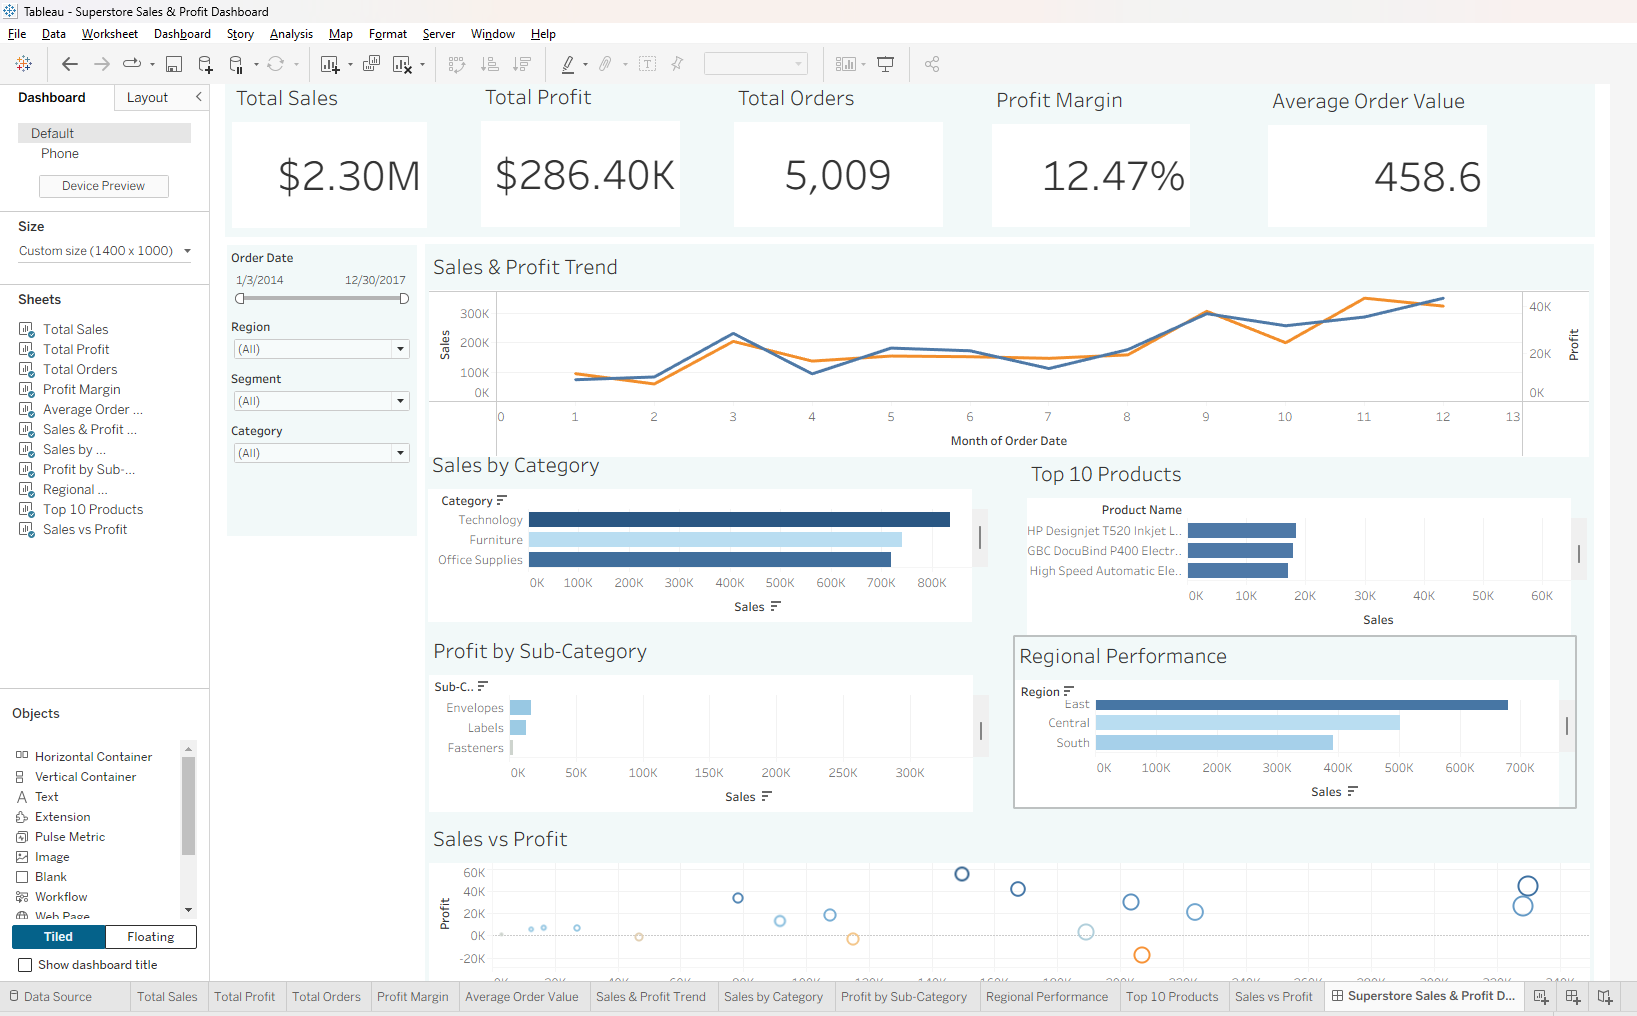

This screenshot's page, from the dashboard's own definition file:
{"tool":"tableau","page":{"name":"Superstore Sales & Profit Dashboard","canvas":[1400,1000],"ordinal":0},"visuals":[{"type":"text","box":[15.2,17.8,1369.7,32]},{"type":"worksheet","title":"Total Profit","mark":"Text","box":[271,44,249,151]},{"type":"worksheet","title":"Total Sales","mark":"Text","box":[22,45,244,149]},{"type":"worksheet","title":"Total Orders","mark":"Automatic","box":[524,45,243,154]},{"type":"worksheet","title":"Profit Margin","mark":"Automatic","box":[782,47,361,185]},{"type":"worksheet","title":"Average Order Value","mark":"Automatic","box":[1058,48,326,155]},{"type":"worksheet","title":"Sales & Profit Trend","mark":"Automatic","rows":["Sales","Profit"],"cols":["Order Date"],"box":[215,210,1169,217]},{"type":"filter","title":"Sales & Profit Trend","param":"[federated.1eerp9a0xwfibz15w8imu005t1my].[none:Order Date:qk]","box":[17,211,190,69]},{"type":"filter","title":"Sales & Profit Trend","param":"[federated.1eerp9a0xwfibz15w8imu005t1my].[none:Region:nk]","box":[17,280,190,52]},{"type":"filter","title":"Sales & Profit Trend","param":"[federated.1eerp9a0xwfibz15w8imu005t1my].[none:Segment:nk]","box":[17,332,190,52]},{"type":"filter","title":"Sales & Profit Trend","param":"[federated.1eerp9a0xwfibz15w8imu005t1my].[none:Category:nk]","box":[17,384,190,52]},{"type":"worksheet","title":"Sales by Category","mark":"Automatic","rows":["Category"],"cols":["Sales"],"box":[218,412,560,176]},{"type":"worksheet","title":"Top 10 Products","mark":"Automatic","rows":["Product Name"],"cols":["Sales"],"box":[817,421,560,180]},{"type":"blank","box":[215,427,1169,355]},{"type":"worksheet","title":"Profit by Sub-Category","mark":"Automatic","rows":["Sub-Category"],"cols":["Sales"],"box":[219,598,560,180]},{"type":"worksheet","title":"Regional Performance","mark":"Automatic","rows":["Region"],"cols":["Sales"],"box":[805,603,560,170]},{"type":"worksheet","title":"Sales vs Profit","mark":"Automatic","rows":["Profit"],"cols":["Sales"],"box":[215,782,1169,210.2]}]}

Visuals, with their boxes on the page's 1400x1000 design canvas (x1, y1, x2, y2). These are canvas units, not pixel positions in the 1637x1016 screenshot, which may show the page scaled, cropped or inside an application window:
text: 15,18,1385,50
"Total Profit" worksheet (Text marks): 271,44,520,195
"Total Sales" worksheet (Text marks): 22,45,266,194
"Total Orders" worksheet: 524,45,767,199
"Profit Margin" worksheet: 782,47,1143,232
"Average Order Value" worksheet: 1058,48,1384,203
"Sales & Profit Trend" worksheet: 215,210,1384,427
"Sales & Profit Trend" filter: 17,211,207,280
"Sales & Profit Trend" filter: 17,280,207,332
"Sales & Profit Trend" filter: 17,332,207,384
"Sales & Profit Trend" filter: 17,384,207,436
"Sales by Category" worksheet: 218,412,778,588
"Top 10 Products" worksheet: 817,421,1377,601
blank: 215,427,1384,782
"Profit by Sub-Category" worksheet: 219,598,779,778
"Regional Performance" worksheet: 805,603,1365,773
"Sales vs Profit" worksheet: 215,782,1384,992
